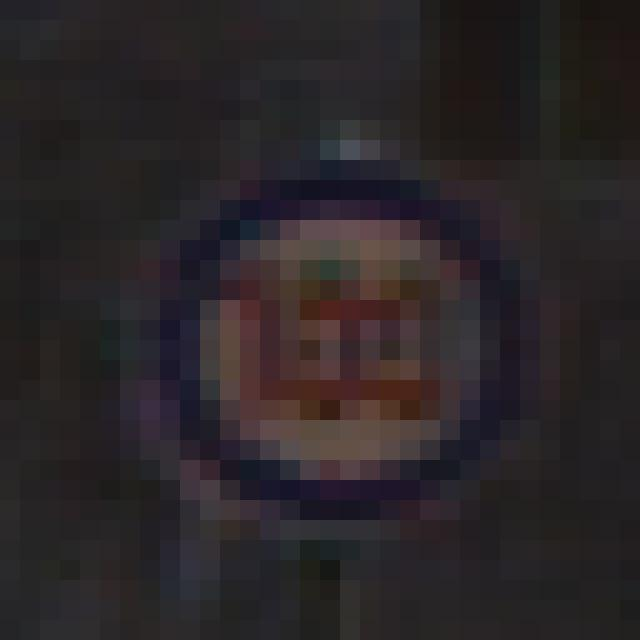SPEED LIMIT 100: (163, 183, 513, 535)
